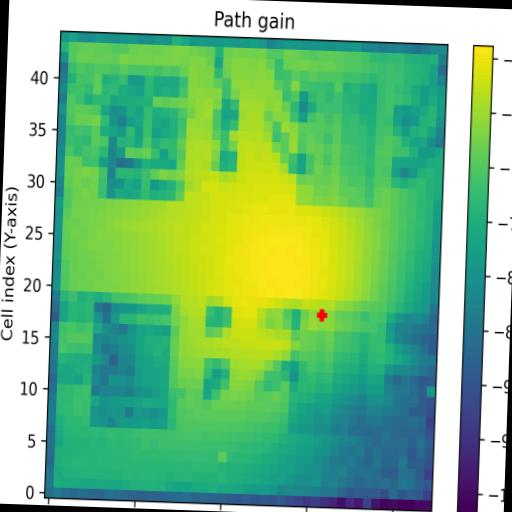Concrete: (296, 79, 378, 208)
Glass: (97, 73, 188, 202)
Metal: (288, 310, 385, 440)
Wood: (88, 302, 171, 430)
